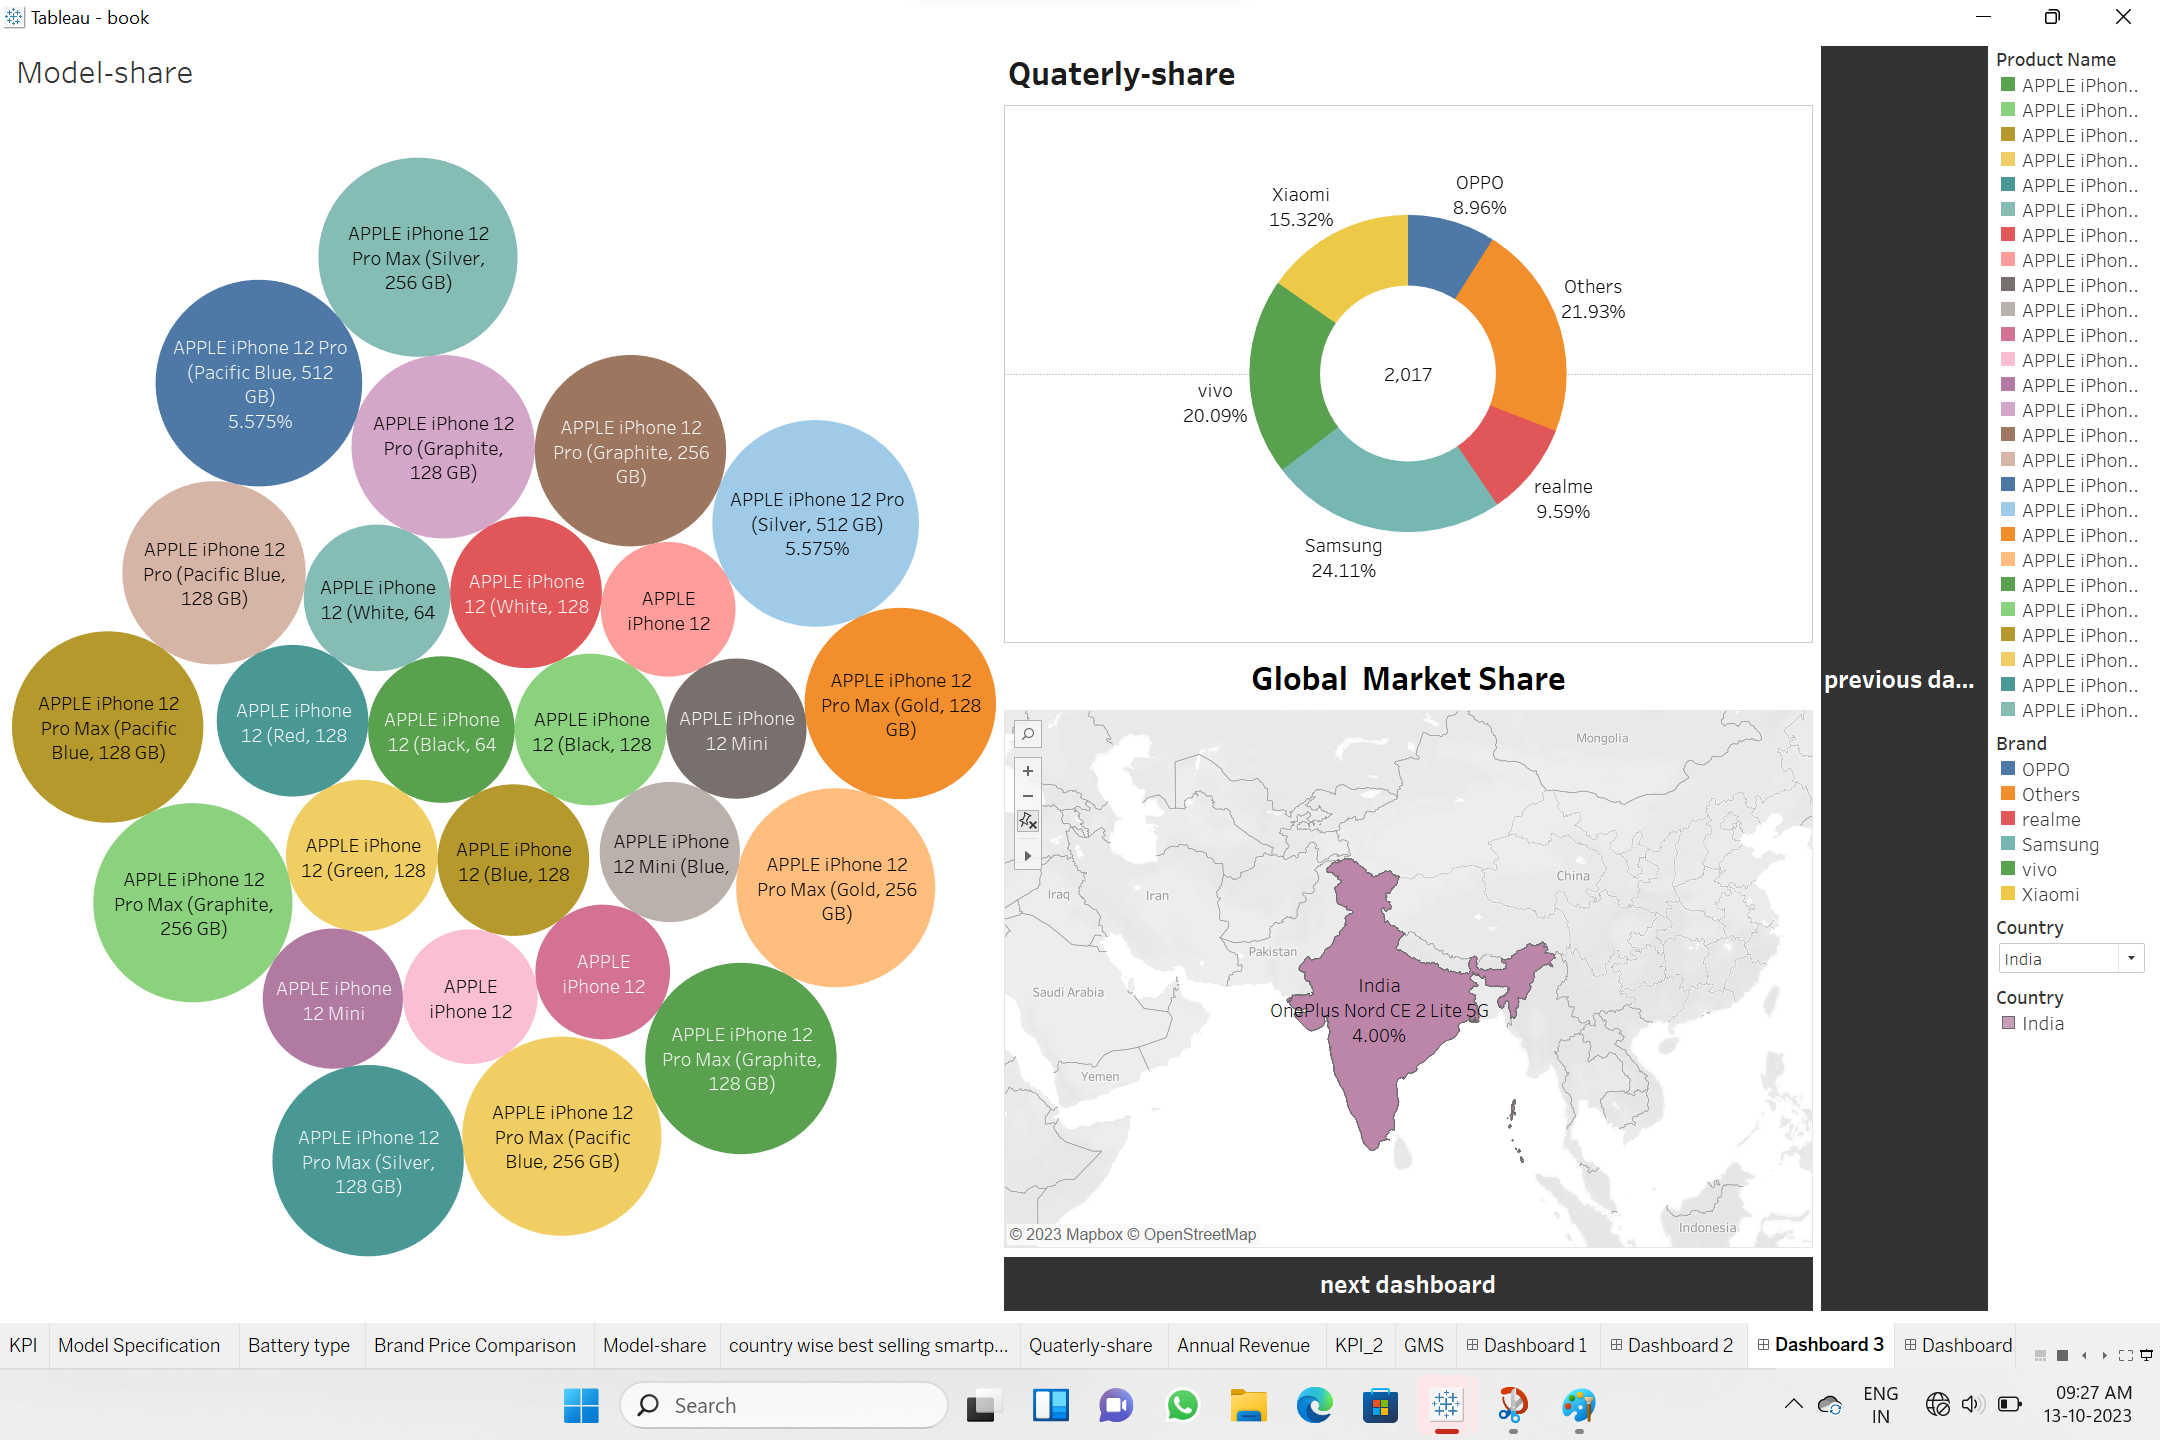

The page's visual inventory and layout, read from the dashboard file:
{"tool":"tableau","page":{"name":"Dashboard 3","canvas":[1000,1000],"units":"permille","ordinal":2},"visuals":[{"type":"worksheet","title":"Model-share","mark":"Circle","box":[4.3,6.9,452.3,986.3]},{"type":"worksheet","title":"Quaterly-share","mark":"Pie","rows":["Calculation_988821602047852547","Calculation_988821602048151557"],"box":[456.6,6.9,372.7,469.1]},{"type":"dashboard-object","box":[829.3,6.9,79.6,986.3]},{"type":"legend","title":"Model-share","param":"[federated.1lhbrvm0p3k8am1gcjjid1nfxdao].[none:Product Name:nk]","box":[908.9,6.9,86.8,586.6]},{"type":"worksheet","title":"GMS","mark":"Multipolygon","box":[456.6,476,372.7,469.1]},{"type":"legend","title":"Quaterly-share","param":"[federated.1o89xws1xf2ac71ehyq330jo3vtn].[none:Brand:nk]","box":[908.9,593.5,86.8,157.8]},{"type":"filter","title":"GMS","param":"[federated.0n0x8hw0o8dvad186w5mh0txmaxs].[none:Country:nk]","box":[908.9,751.3,86.8,60]},{"type":"legend","title":"GMS","param":"[federated.0n0x8hw0o8dvad186w5mh0txmaxs].[none:Country:nk]","box":[908.9,811.3,86.8,50.6]},{"type":"dashboard-object","box":[456.6,945.1,372.7,48]}]}

Visuals, with their boxes on the dashboard's canvas, which has no fixed pixel size, in thousandths of its width and height (x1, y1, x2, y2). These are canvas units, not pixel positions in the 2160x1440 screenshot, which may show the page scaled, cropped or inside an application window:
"Model-share" worksheet (Circle marks): left=4, top=7, right=457, bottom=993
"Quaterly-share" worksheet (Pie marks): left=457, top=7, right=829, bottom=476
dashboard-object: left=829, top=7, right=909, bottom=993
"Model-share" legend: left=909, top=7, right=996, bottom=594
"GMS" worksheet (Multipolygon marks): left=457, top=476, right=829, bottom=945
"Quaterly-share" legend: left=909, top=594, right=996, bottom=751
"GMS" filter: left=909, top=751, right=996, bottom=811
"GMS" legend: left=909, top=811, right=996, bottom=862
dashboard-object: left=457, top=945, right=829, bottom=993
